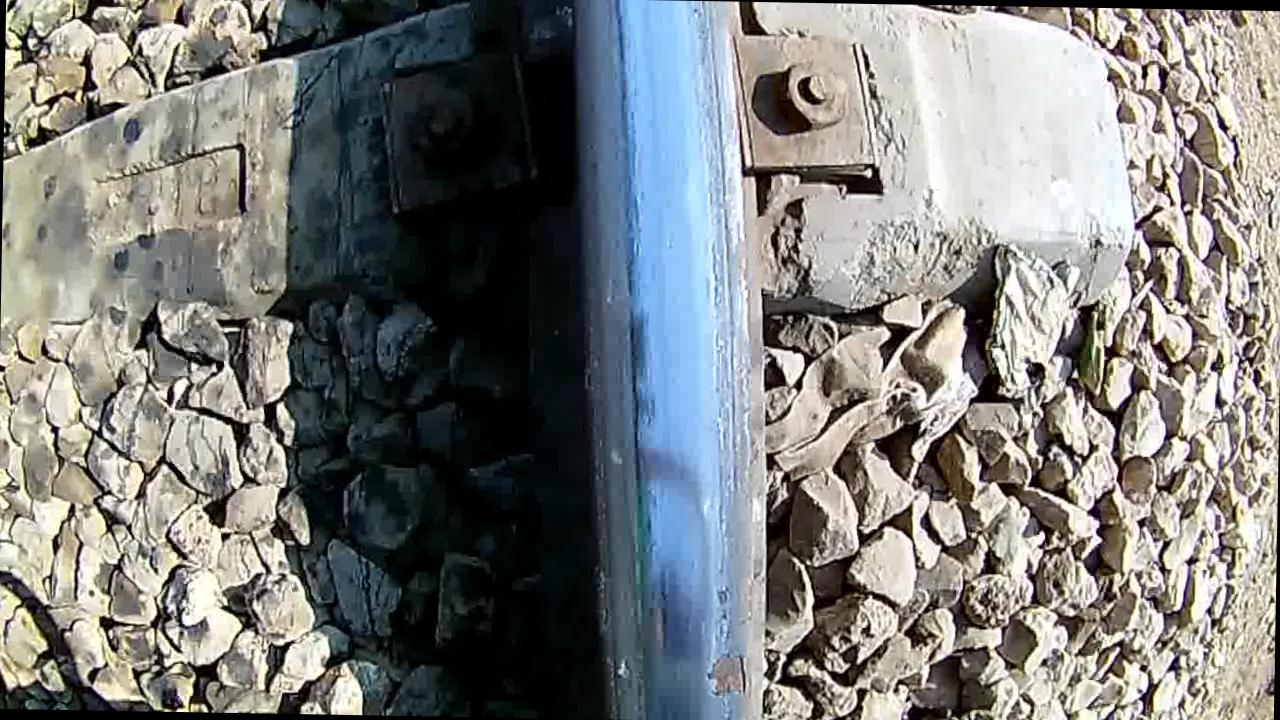crack: (590, 43, 768, 720)
